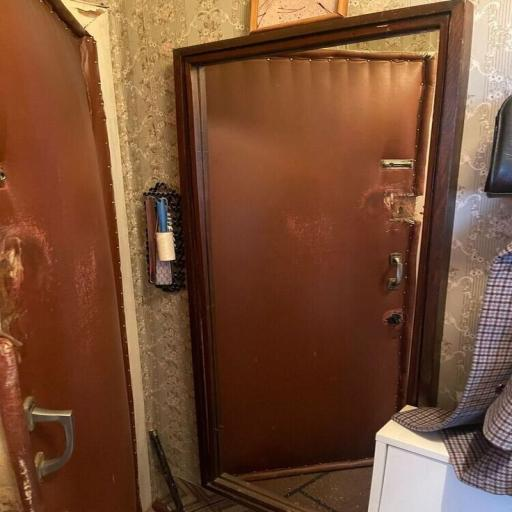corridor: (199, 51, 434, 474), (0, 0, 137, 511)
curb: (0, 0, 512, 512)
